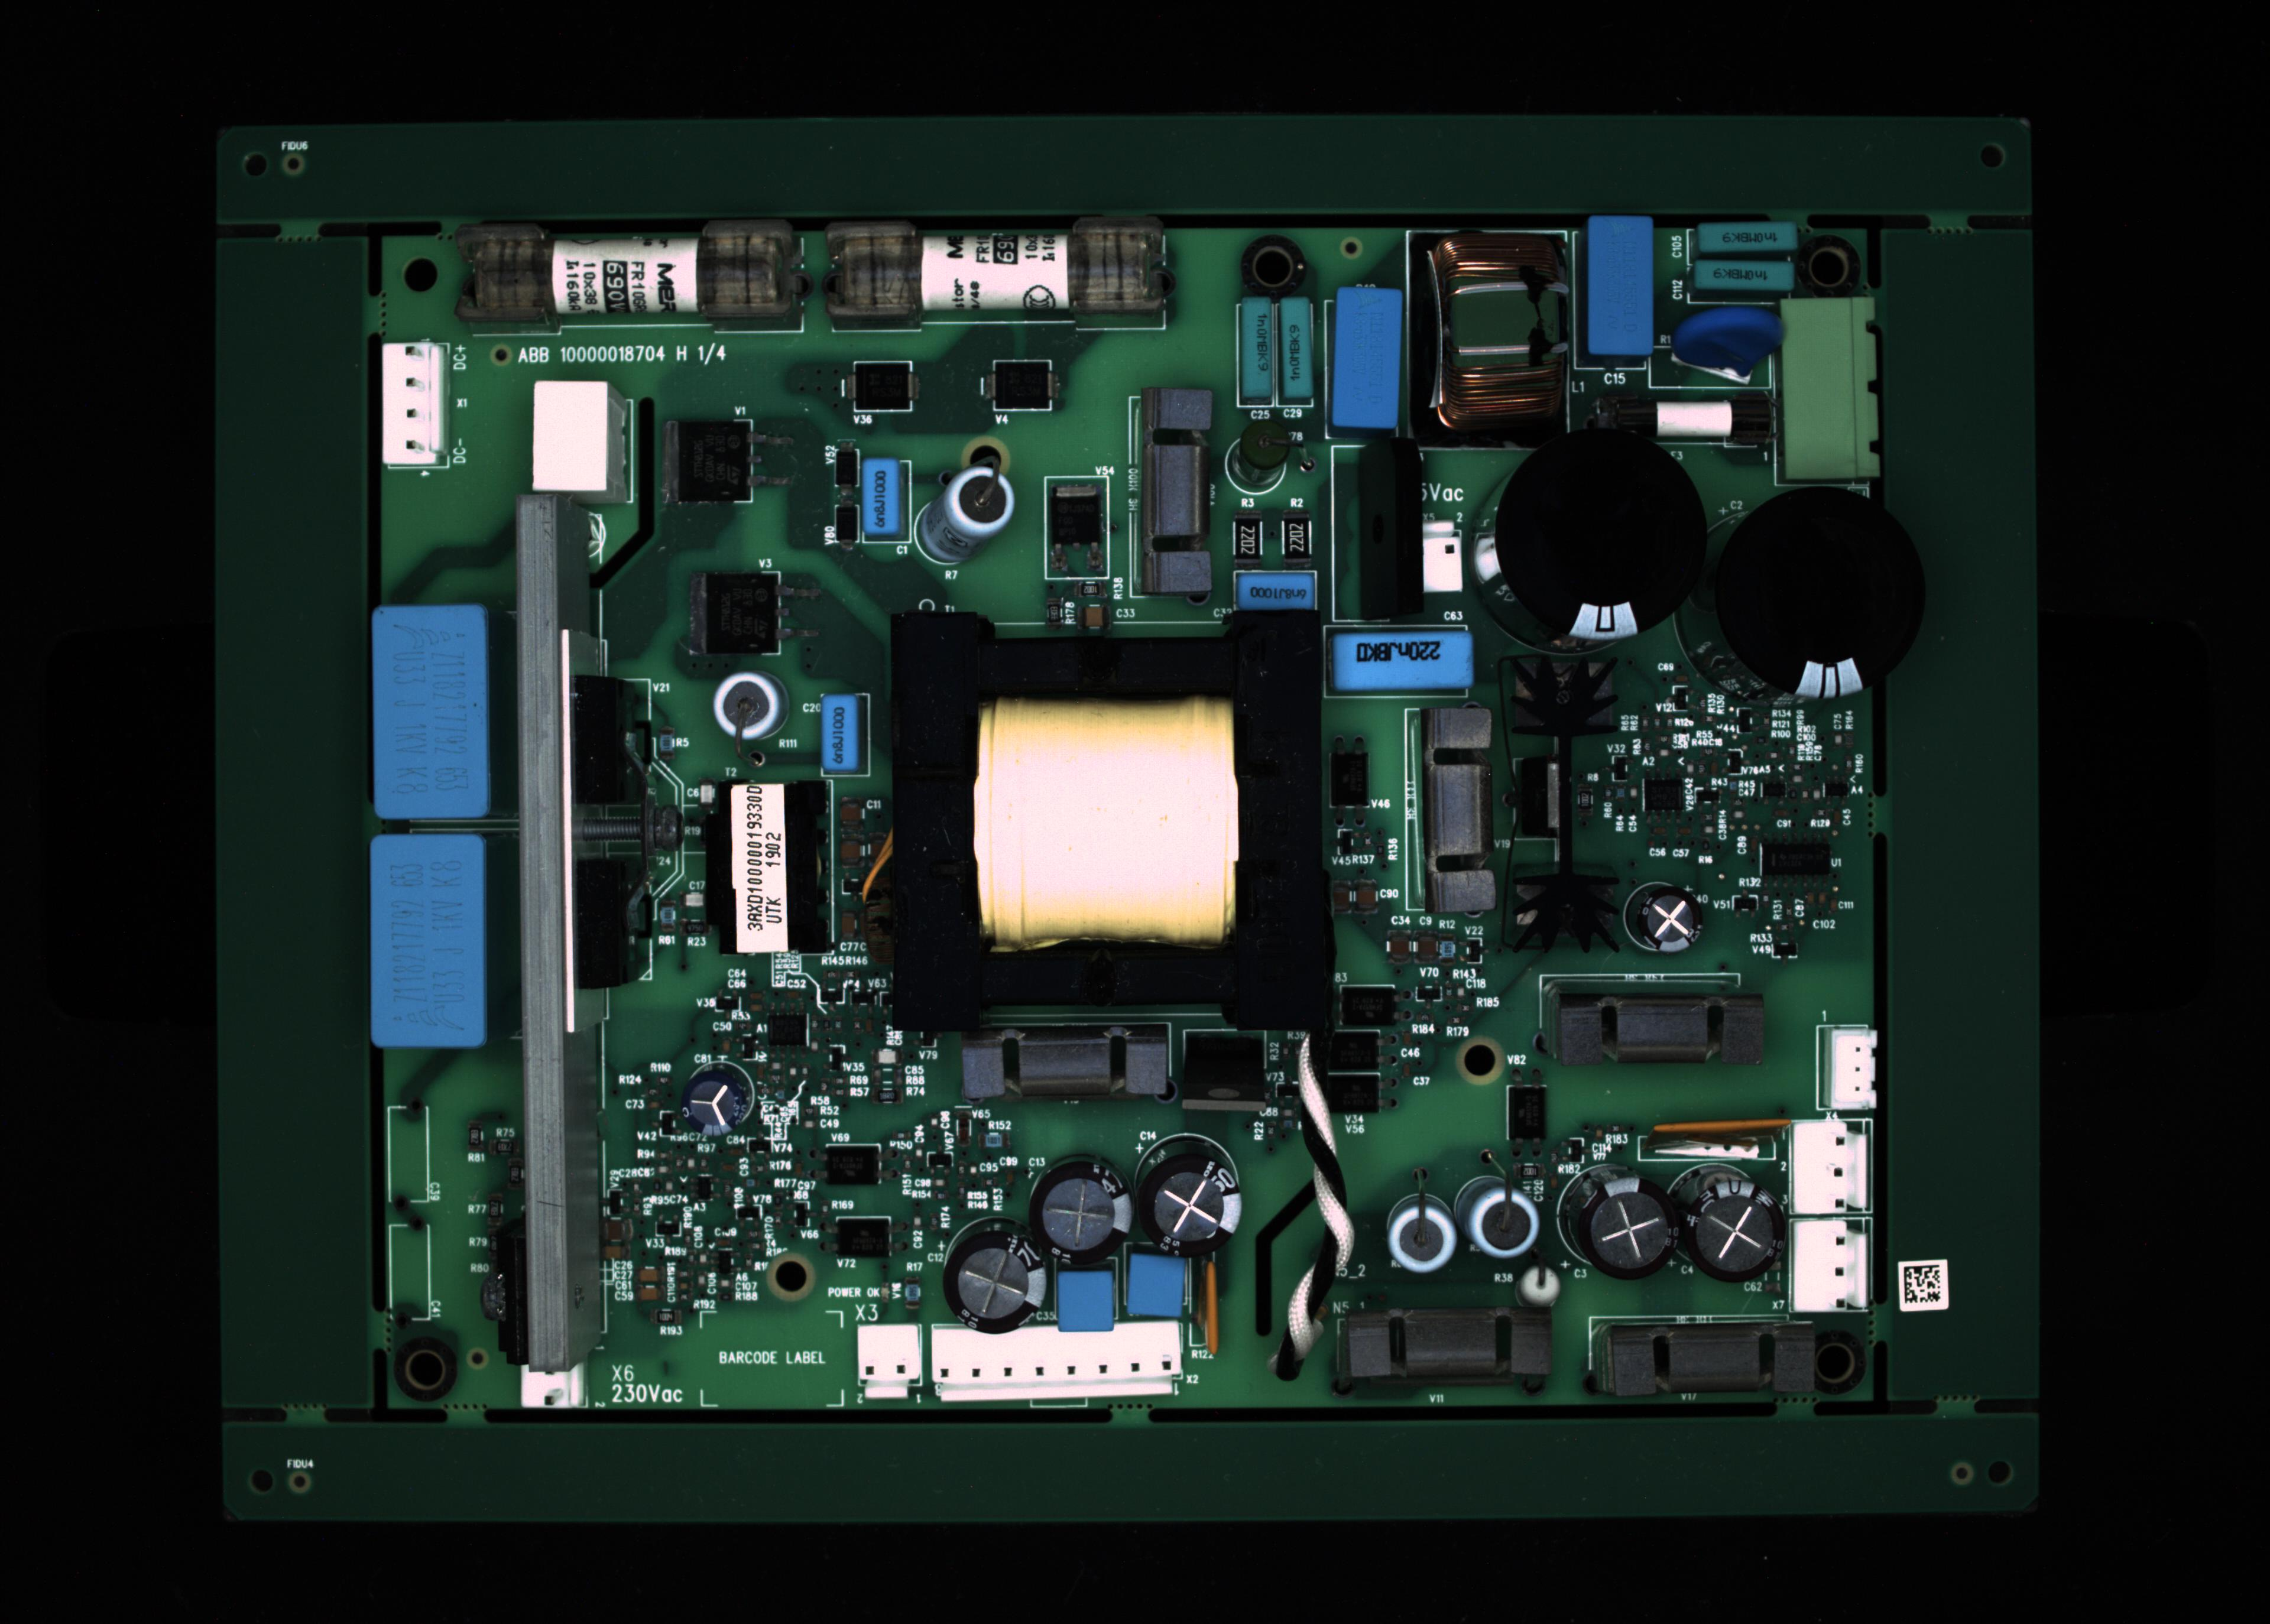10_p: (1648, 346, 1772, 394)
11_q: (1781, 294, 1876, 483)
12_r: (1591, 387, 1776, 455)
13_s: (380, 337, 438, 469)
14_t: (529, 380, 629, 503)
15_e: (860, 460, 900, 538)
16_k: (918, 464, 1011, 569)
17_u: (1141, 385, 1206, 594)
18_v: (1233, 571, 1315, 612)
19_w: (1338, 633, 1473, 685)
1_a: (457, 216, 800, 329)
20_f: (1422, 517, 1463, 592)
21_g: (1491, 425, 1709, 638)
22_g: (1716, 482, 1920, 700)
23_h: (380, 603, 489, 819)
24_h: (375, 835, 487, 1046)
25_f: (515, 1364, 587, 1411)
26_f: (858, 1323, 927, 1399)
27_x: (927, 1323, 1176, 1397)
28_i: (1132, 1148, 1241, 1251)
29_i: (1027, 1153, 1134, 1274)
2_a: (819, 216, 1175, 330)
30_i: (939, 1227, 1055, 1339)
31_j: (1050, 1264, 1120, 1336)
32_j: (1118, 1248, 1182, 1320)
33_e: (821, 692, 860, 777)
34_k: (1384, 1204, 1459, 1271)
35_k: (1468, 1183, 1542, 1260)
36_i: (1575, 1169, 1676, 1278)
37_i: (1679, 1178, 1786, 1283)
38_l: (1350, 1304, 1554, 1376)
39_l: (1602, 1318, 1816, 1396)
3_b: (1240, 295, 1270, 395)
40_l: (1540, 990, 1771, 1069)
41_y: (1407, 678, 1505, 919)
42_z: (1827, 1028, 1878, 1114)
43_m: (1792, 1120, 1874, 1216)
44_m: (1788, 1225, 1876, 1311)
45_i: (679, 1065, 756, 1142)
46_n: (1338, 982, 1398, 1030)
47_n: (821, 1142, 883, 1188)
48_n: (833, 1214, 895, 1260)
49_aa: (761, 1011, 811, 1048)
4_b: (1280, 299, 1313, 404)
50_n: (1321, 1030, 1379, 1072)
51_n: (1313, 1072, 1379, 1116)
52_ab: (1336, 749, 1370, 805)
53_ac: (1656, 1130, 1790, 1165)
54_ad: (1194, 1253, 1222, 1364)
55_l: (962, 1028, 1173, 1097)
56_ae: (1176, 1025, 1264, 1106)
57_af: (1509, 647, 1635, 951)
58_i: (1630, 884, 1706, 958)
59_o: (992, 360, 1051, 413)
5_c: (1333, 286, 1400, 425)
60_o: (853, 360, 911, 413)
6_ag: (1405, 232, 1572, 452)
7_c: (1588, 218, 1649, 355)
8_d: (1699, 220, 1793, 253)
9_d: (1693, 262, 1793, 288)
